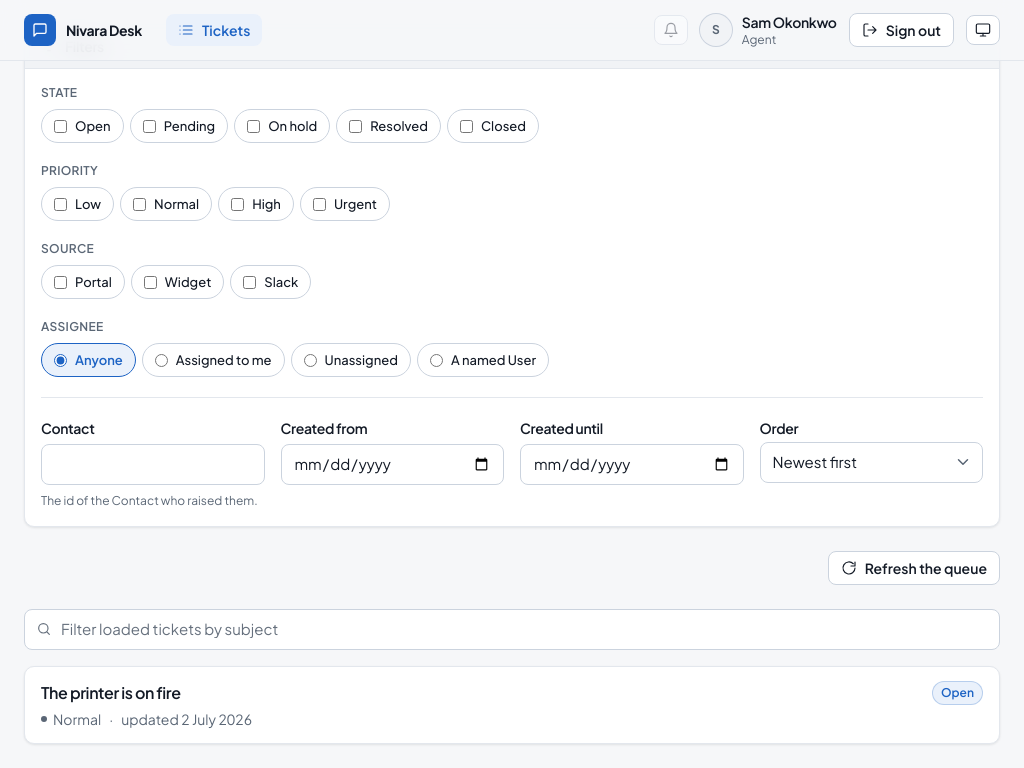
Test: who a Ticket belongs to › says a refused assignment was refused, and leaves the Ticket where it was
(page scrolled)
Click the button "The printer is on fire Normal · updated 2 July 2026 Open".
click(111, 692)  # box [25, 666, 999, 742]
(page scrolled)
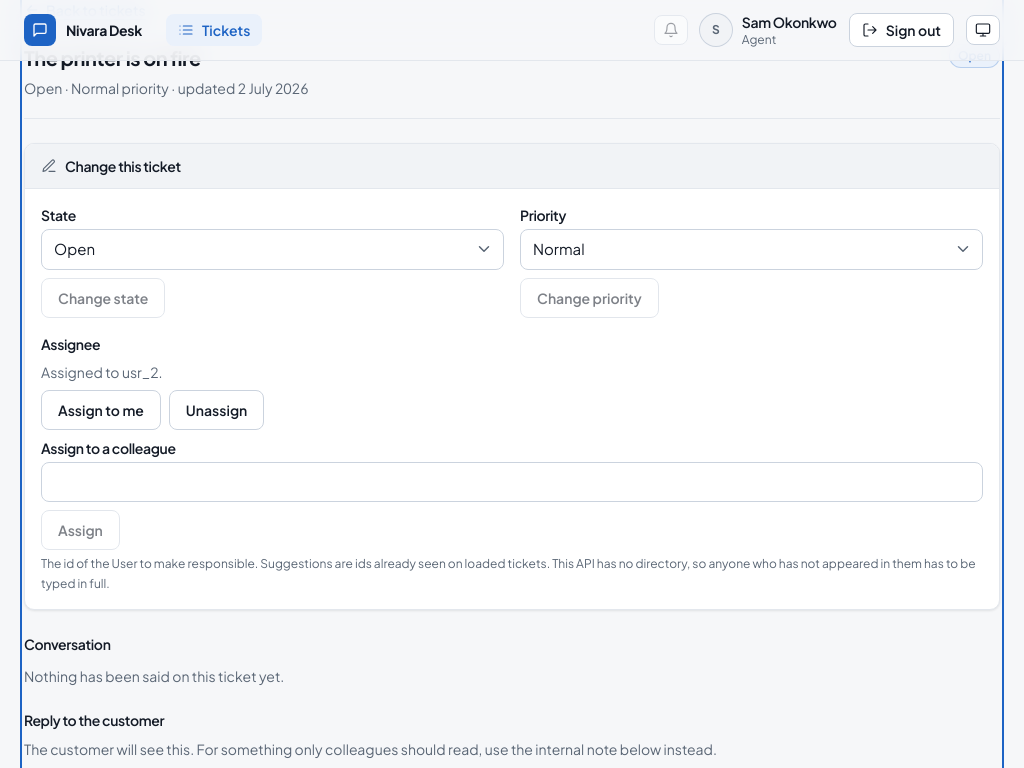
Expected: the heading "The printer is on fire" is shown, [24, 44, 201, 72]
Click the button "Assign to me".
click(101, 410)  # box [41, 390, 161, 430]
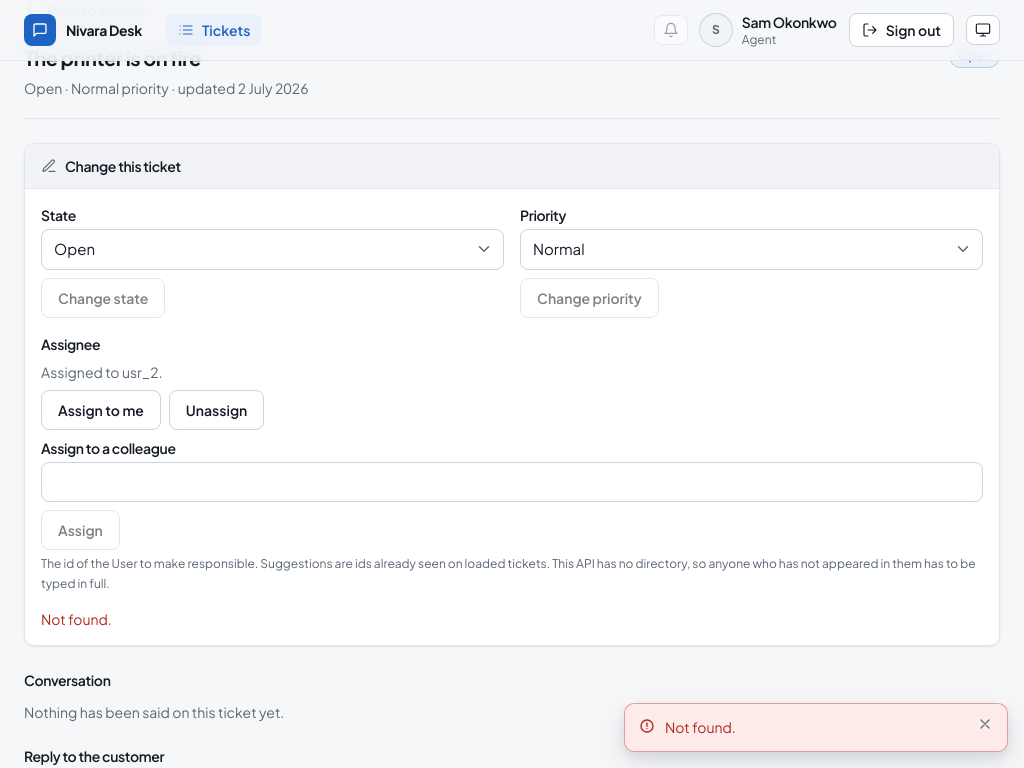
Now the text "Assigned to usr_2." is shown, box [41, 362, 163, 380]
Now the message shows "Not found", box [665, 718, 736, 736]
